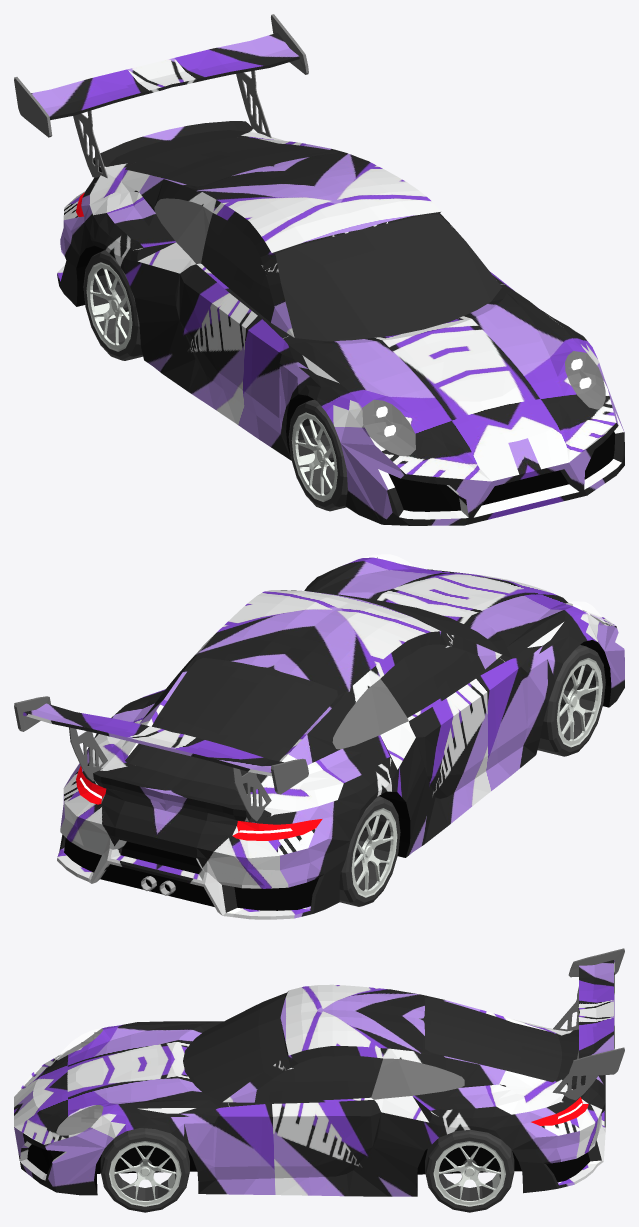
Rendered from posche_911_gt.glb.
The picture shows the model from 3 angles, top to bottom: view 1: azimuth 30°, elevation 25°; view 2: azimuth 150°, elevation 25°; view 3: azimuth 270°, elevation 25°; orthographic projection. The views are drawn at different scales.
Parts seen in each view (by area): view 1: body, wheel_2, wheel_4; view 2: body, wheel_2, wheel_4; view 3: body, wheel_1, wheel_3.
Boxes of the visible parts, x1,y1,x2,y2 form: body: [14, 14, 624, 525]; wheel_2: [288, 399, 347, 511]; wheel_4: [83, 250, 142, 360]; body: [14, 554, 624, 919]; wheel_2: [537, 645, 605, 756]; wheel_4: [339, 796, 400, 906]; body: [14, 948, 624, 1196]; wheel_1: [100, 1128, 189, 1212]; wheel_3: [425, 1129, 514, 1212].
Bounding box in the file's own units: 1.88 × 1.38 × 4.63.
Materials: 12 (1 with a texture image).
